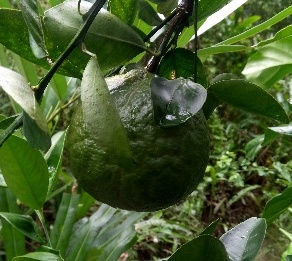Cam: (63, 66, 212, 213)
